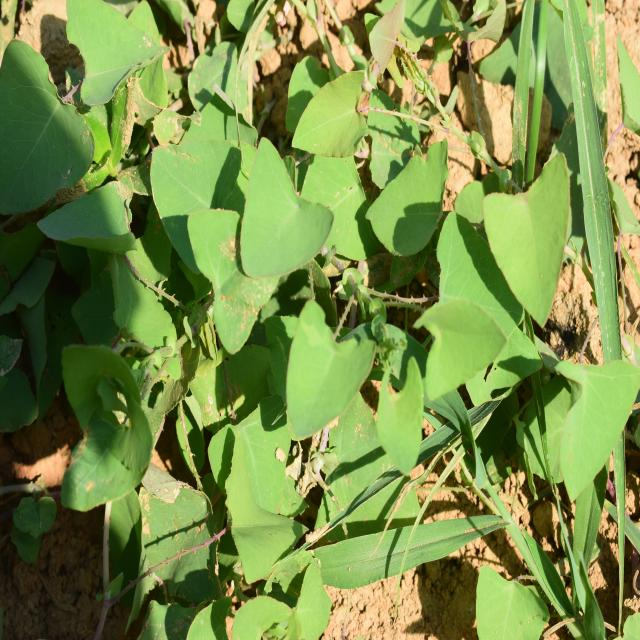Asiatic_Smartweed: (363, 115, 585, 336), (269, 268, 497, 462), (146, 119, 340, 346), (0, 0, 147, 286), (49, 338, 160, 518)
